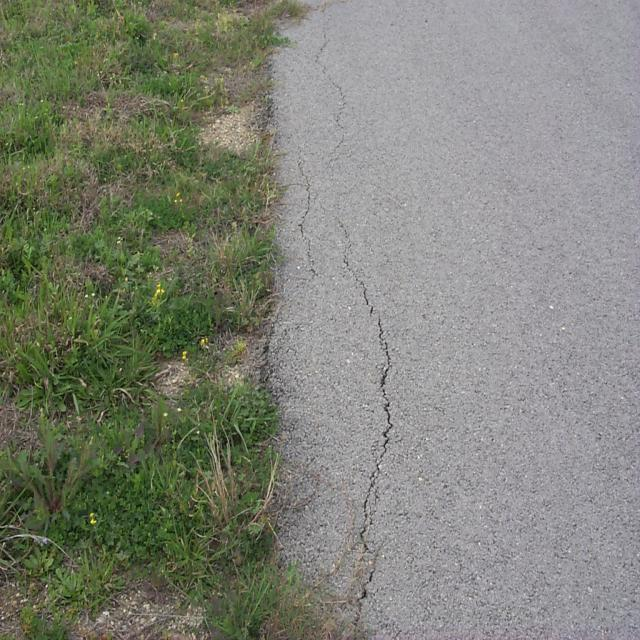Pothole: (174, 0, 530, 640)
